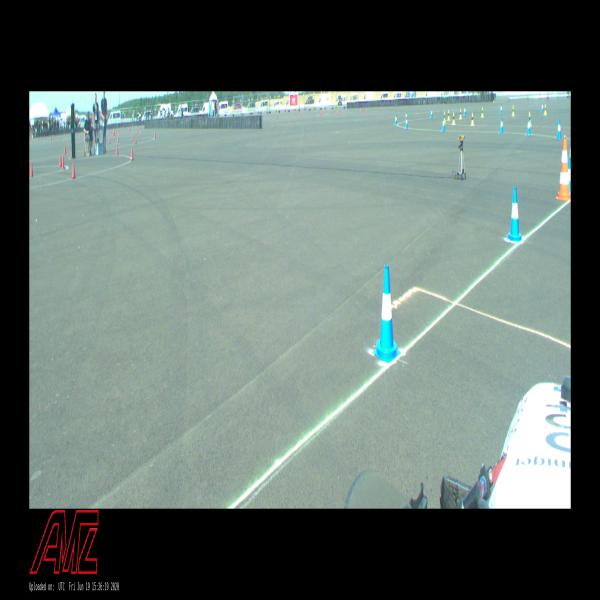blue_cone: (373, 264, 401, 363), (507, 187, 523, 242), (568, 157, 571, 194), (556, 120, 562, 138), (526, 118, 532, 135), (499, 117, 504, 133), (441, 118, 446, 132), (405, 118, 408, 129), (541, 102, 544, 112), (395, 114, 397, 125), (500, 104, 502, 114), (405, 112, 407, 121), (464, 107, 466, 116), (430, 109, 432, 117)
large_orange_cone: (555, 134, 571, 200)
yellow_cone: (451, 112, 456, 125), (470, 113, 474, 126), (446, 110, 451, 120), (529, 111, 532, 126), (443, 112, 446, 122), (459, 109, 462, 119), (481, 107, 484, 117), (544, 104, 547, 114), (512, 106, 514, 116)
